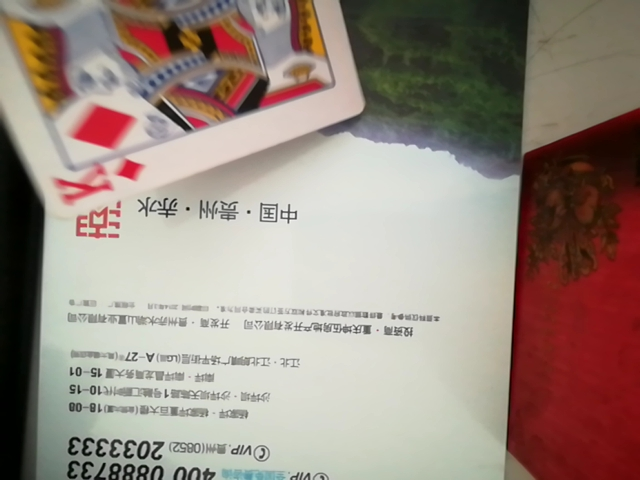fk k: (1, 1, 371, 250)
